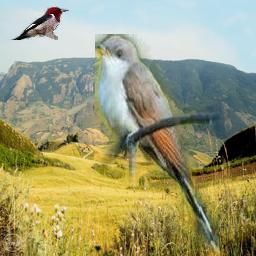Cuckoo: (96, 35, 221, 254)
Woodpecker: (9, 6, 69, 40)
